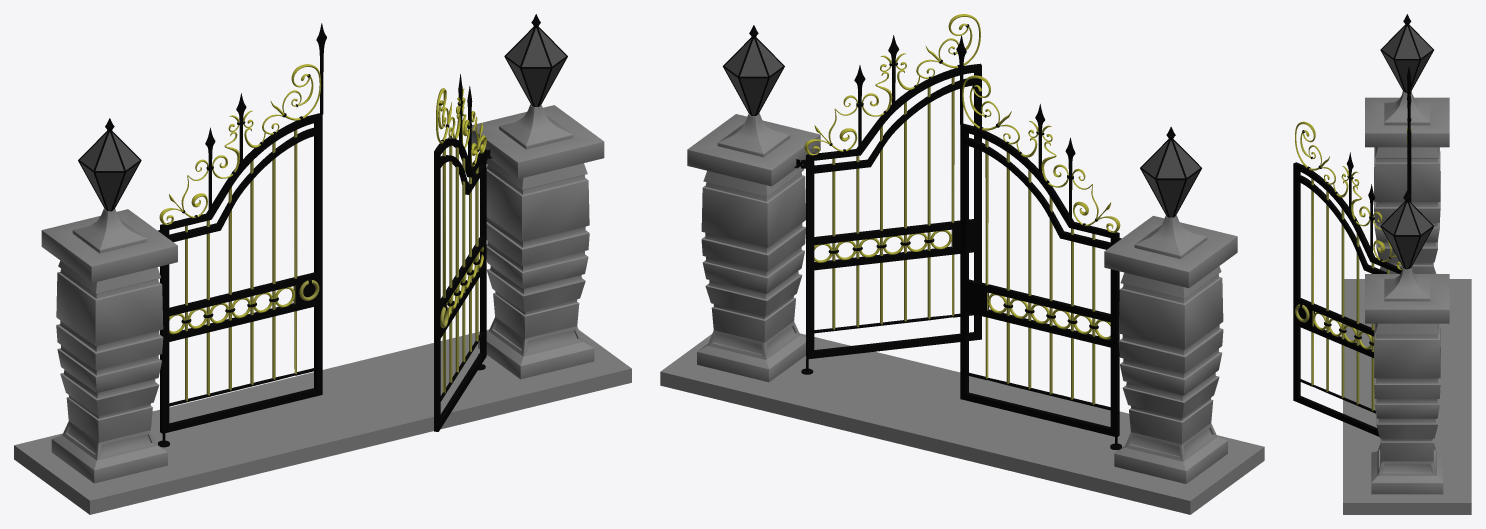
The model's file is front_door_of_a_mansion3.glb.
3 views of the same model, side by side, from view 1: azimuth 30°, elevation 25°; view 2: azimuth 150°, elevation 25°; view 3: azimuth 270°, elevation 25° (orthographic). The views are drawn at different scales.
Parts seen in each view (by area): view 1: wall_8, Cube.003_12, main plame L_7, lights_11, main plame R_18, main 1_3, main 1.001_14, up 1_5, up 1.001_16, main O_4; view 2: wall_8, Cube.003_12, main plame L_7, main plame R_18, lights_11, main 1_3, main 1.001_14, up 1.001_16, up 1_5, main O.001_15, main O_4; view 3: wall_8, Cube.003_12, main plame R_18, lights_11, main 1.001_14, up 1.001_16, main O.001_15, center_0, main plame L_7.
Part boxes in pixels (x1,y1,x2,y2): wall_8: [41, 104, 604, 483]; Cube.003_12: [14, 329, 631, 514]; main plame L_7: [158, 113, 322, 433]; lights_11: [78, 14, 567, 211]; main plame R_18: [434, 138, 487, 431]; main 1_3: [169, 130, 316, 406]; main 1.001_14: [440, 145, 483, 401]; up 1_5: [159, 64, 321, 224]; up 1.001_16: [436, 74, 486, 166]; main O_4: [169, 287, 294, 334]; wall_8: [687, 113, 1237, 483]; Cube.003_12: [660, 333, 1264, 514]; main plame L_7: [960, 123, 1121, 437]; main plame R_18: [801, 63, 981, 358]; lights_11: [722, 25, 1201, 217]; main 1_3: [967, 140, 1110, 410]; main 1.001_14: [814, 77, 974, 333]; up 1.001_16: [804, 14, 980, 155]; up 1_5: [962, 75, 1120, 232]; main O.001_15: [814, 230, 951, 262]; main O_4: [987, 293, 1110, 339]; wall_8: [1365, 91, 1449, 494]; Cube.003_12: [1343, 279, 1471, 514]; main plame R_18: [1293, 162, 1401, 436]; lights_11: [1380, 14, 1434, 269]; main 1.001_14: [1298, 178, 1389, 413]; up 1.001_16: [1295, 121, 1402, 270]; main O.001_15: [1313, 312, 1374, 349]; center_0: [1407, 67, 1411, 144]; main plame L_7: [1407, 131, 1411, 202].
Bounding box in the file's own units: 5.55 × 3.88 × 1.86.
